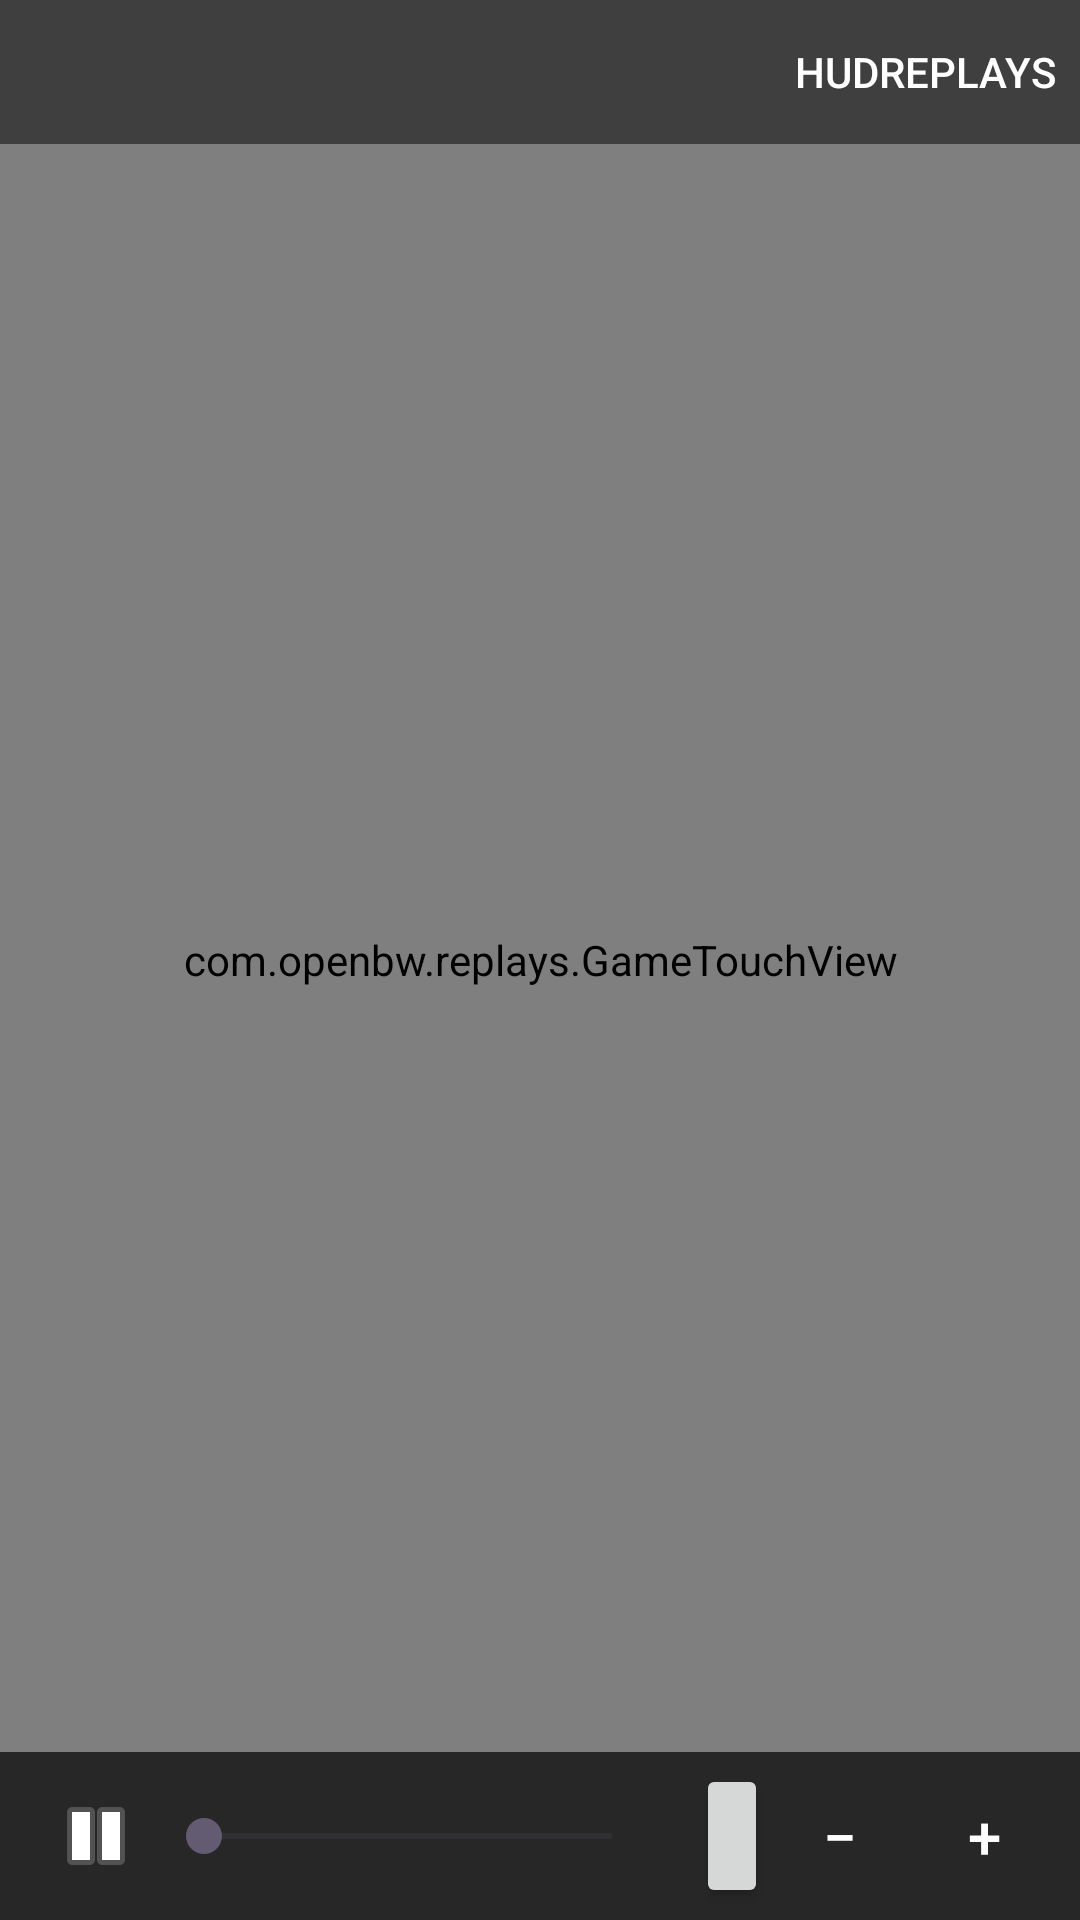

Locate icon controls on the screen. Image size 1080 × 1920, boxes as (x1, y1, x2, y2).
Play or pause: (67, 1807, 125, 1865)
